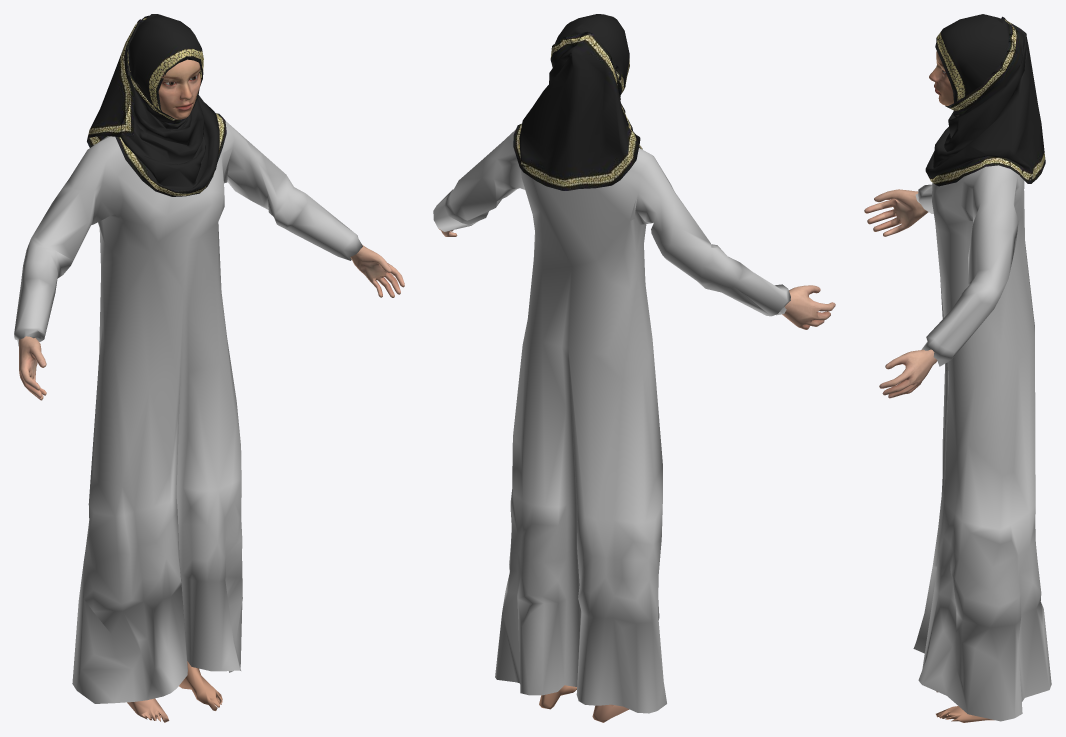
File: c_white.glb
3 renders of one model, left to right at view 1: azimuth 30°, elevation 25°; view 2: azimuth 150°, elevation 25°; view 3: azimuth 270°, elevation 25°, orthographic.
Parts seen in each view (by area): view 1: Female Legs 3d Model Good Topology.002_hijab_C_low1blin.002_, Female Legs 3d Model Good Topology.002_Material.002_0, Female Legs 3d Model Good Topology.002_Maraarm2.002_0, Female Legs 3d Model Good Topology.002_Maraface2.002_0, Female Legs 3d Model Good Topology.002_Maraleg2.002_0; view 2: Female Legs 3d Model Good Topology.002_hijab_C_low1blin.002_, Female Legs 3d Model Good Topology.002_Material.002_0, Female Legs 3d Model Good Topology.002_Maraarm2.002_0, Female Legs 3d Model Good Topology.002_Maraleg2.002_0; view 3: Female Legs 3d Model Good Topology.002_hijab_C_low1blin.002_, Female Legs 3d Model Good Topology.002_Material.002_0, Female Legs 3d Model Good Topology.002_Maraarm2.002_0, Female Legs 3d Model Good Topology.002_Maraface2.002_0, Female Legs 3d Model Good Topology.002_Maraleg2.002_0.
Part boxes in pixels (<box>): Female Legs 3d Model Good Topology.002_hijab_C_low1blin.002_: <box>14,121,362,703</box>; Female Legs 3d Model Good Topology.002_Material.002_0: <box>87,14,226,196</box>; Female Legs 3d Model Good Topology.002_Maraarm2.002_0: <box>19,245,404,400</box>; Female Legs 3d Model Good Topology.002_Maraface2.002_0: <box>158,59,200,119</box>; Female Legs 3d Model Good Topology.002_Maraleg2.002_0: <box>127,661,222,722</box>; Female Legs 3d Model Good Topology.002_hijab_C_low1blin.002_: <box>433,129,790,713</box>; Female Legs 3d Model Good Topology.002_Material.002_0: <box>513,14,642,190</box>; Female Legs 3d Model Good Topology.002_Maraarm2.002_0: <box>438,228,835,329</box>; Female Legs 3d Model Good Topology.002_Maraleg2.002_0: <box>539,685,629,722</box>; Female Legs 3d Model Good Topology.002_hijab_C_low1blin.002_: <box>913,165,1051,721</box>; Female Legs 3d Model Good Topology.002_Material.002_0: <box>925,14,1045,186</box>; Female Legs 3d Model Good Topology.002_Maraarm2.002_0: <box>864,189,937,398</box>; Female Legs 3d Model Good Topology.002_Maraface2.002_0: <box>929,51,953,105</box>; Female Legs 3d Model Good Topology.002_Maraleg2.002_0: <box>936,691,994,722</box>.
Size of the model in its own units: 5.14 by 8.8 by 2.18.
6 materials, 5 textured.
